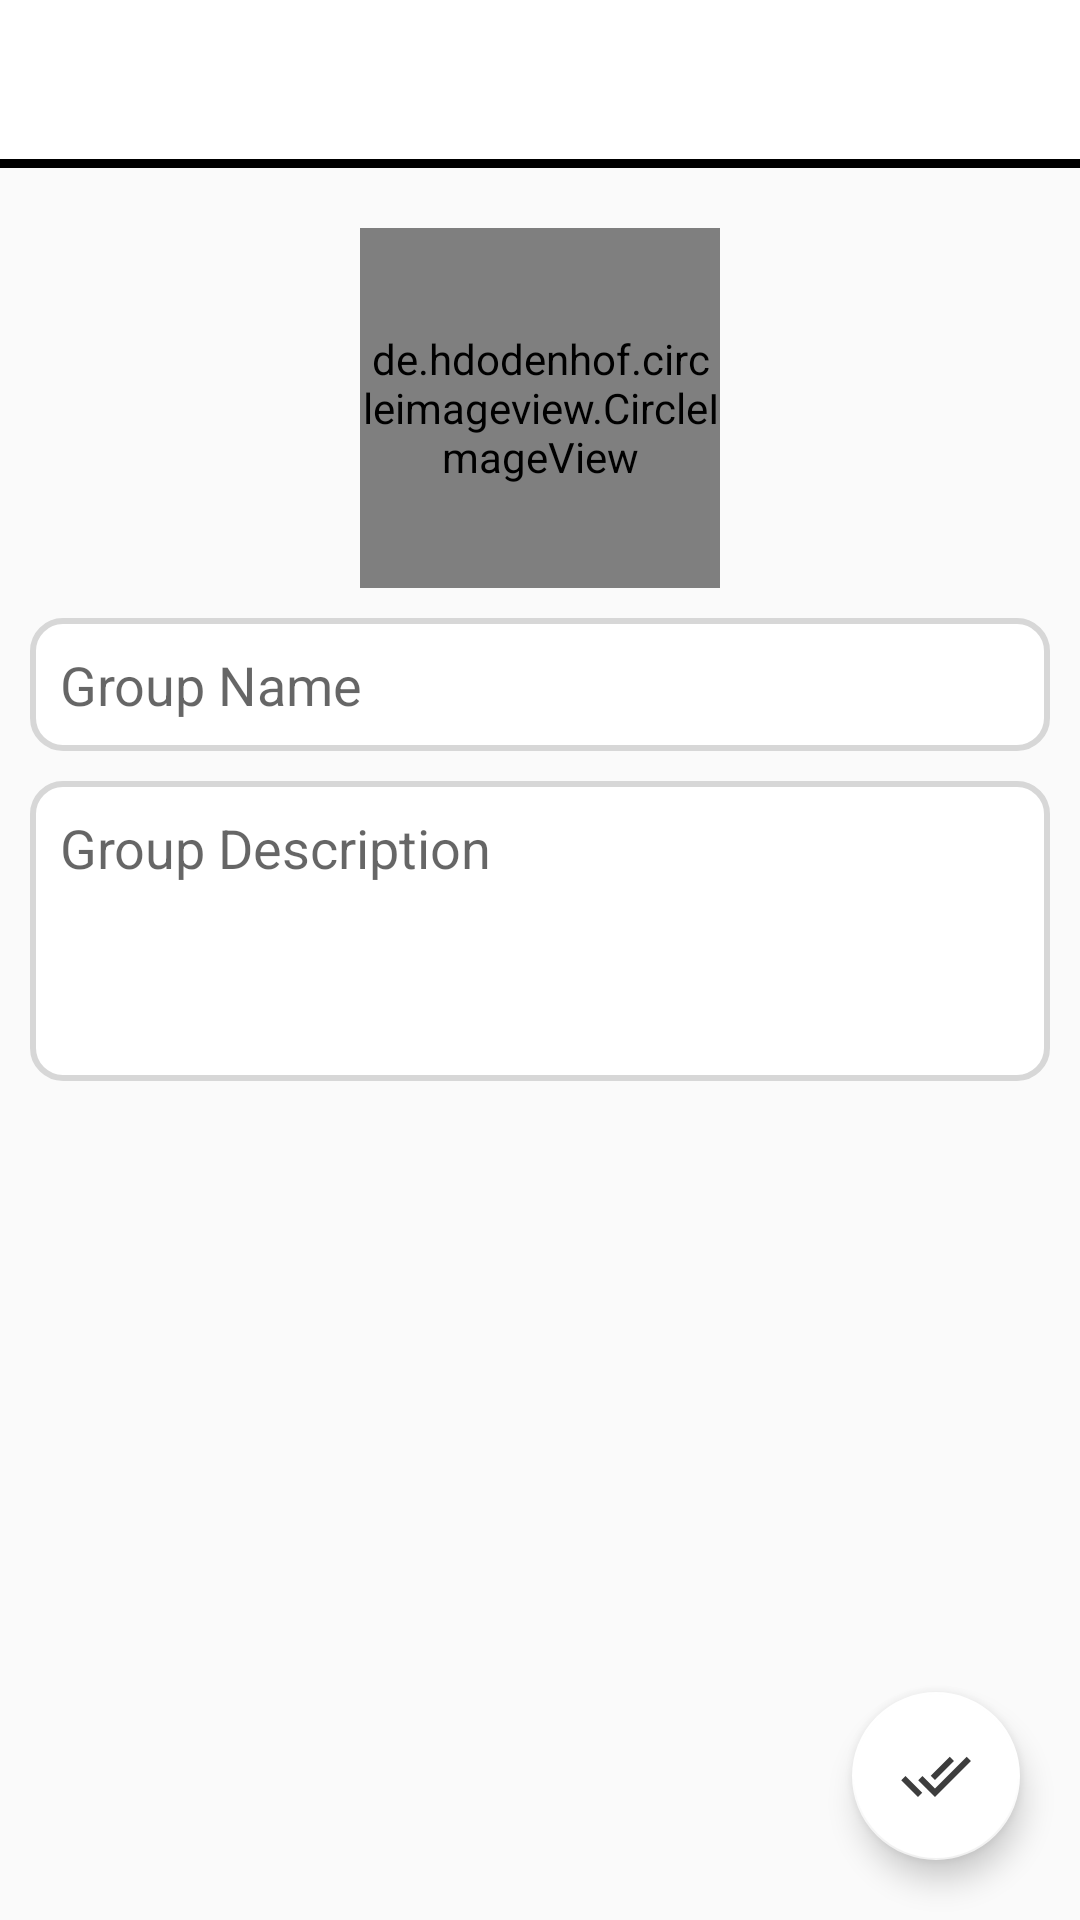

Point at icon controls on the screen. Image size 1080x1920, points as [x,y].
done: [938,1808]
